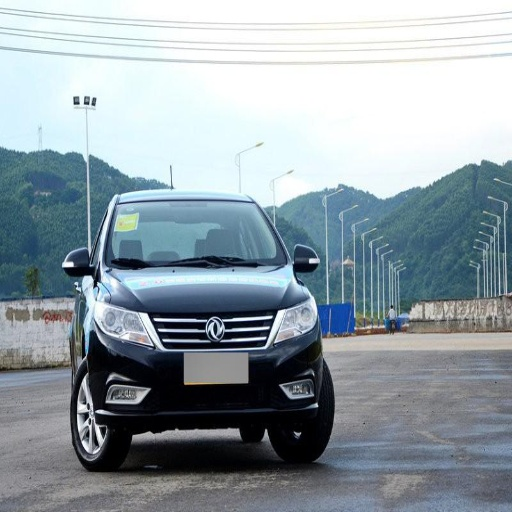front_bumper: (85, 309, 318, 434)
front_right_light: (95, 301, 151, 344)
hood: (98, 268, 306, 314)
